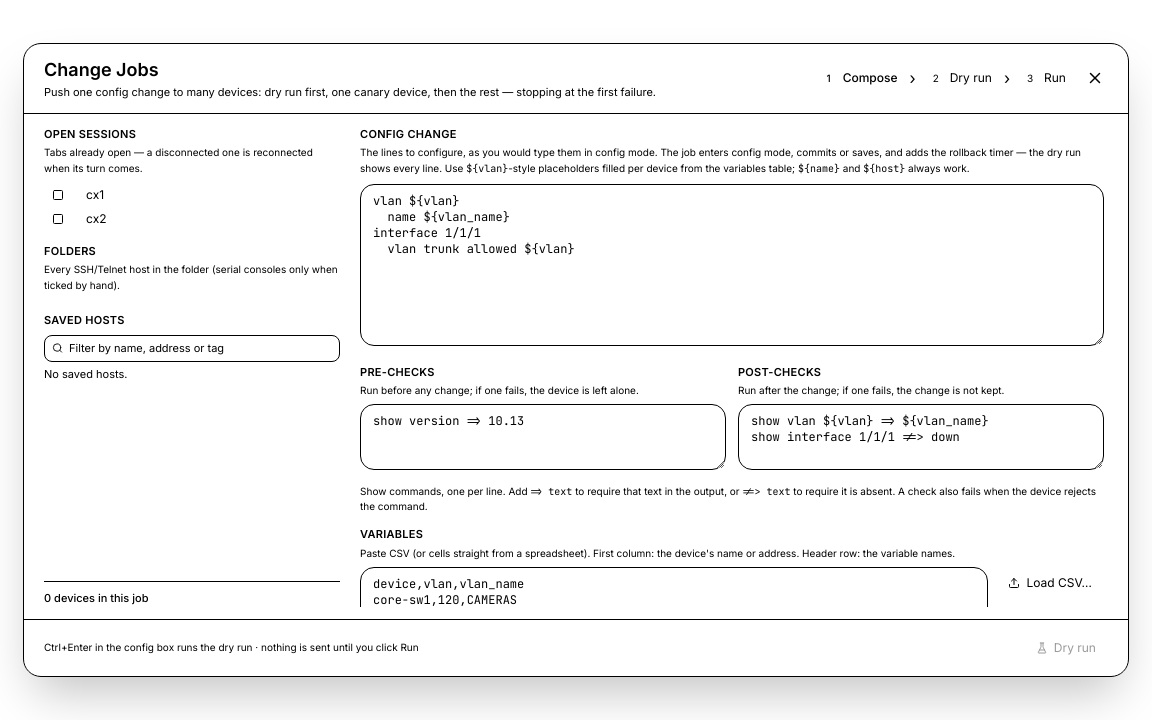
Test: ChangeJobs › the canary pause › runs only the canary, then the rest after Continue
Step 1. Click the button "cx1" → click(58, 195), box [44,183,340,207]
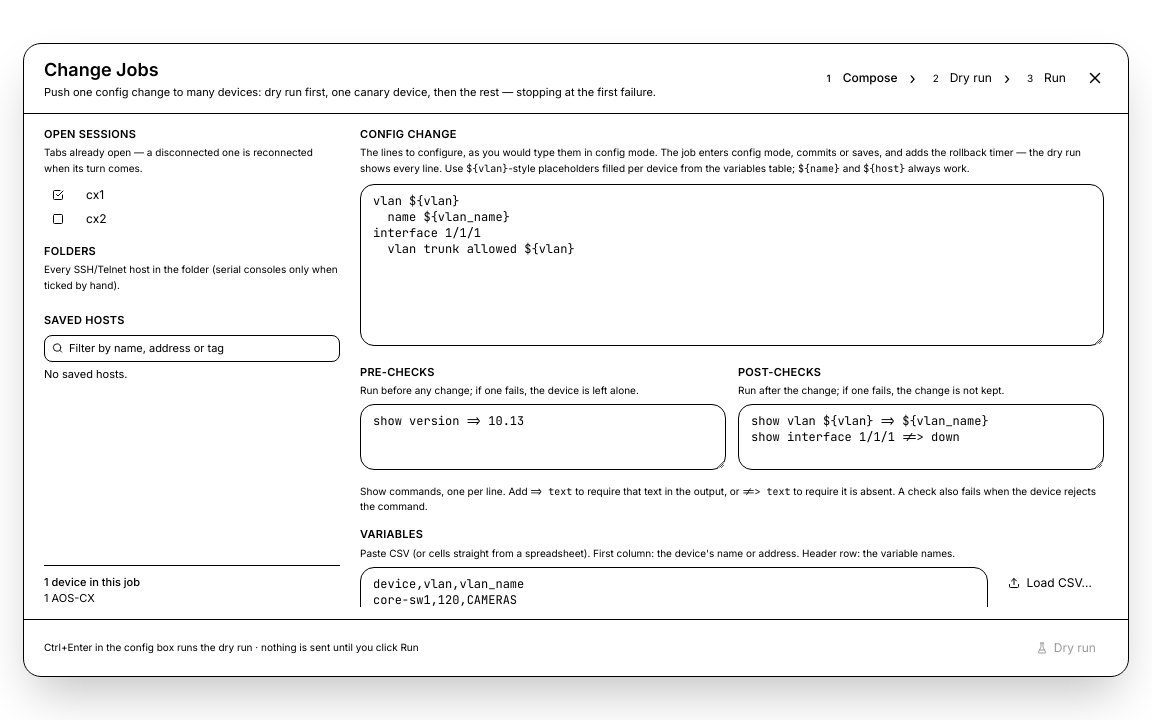
Step 2. Click the button "cx2" → click(58, 219), box [44,207,340,231]
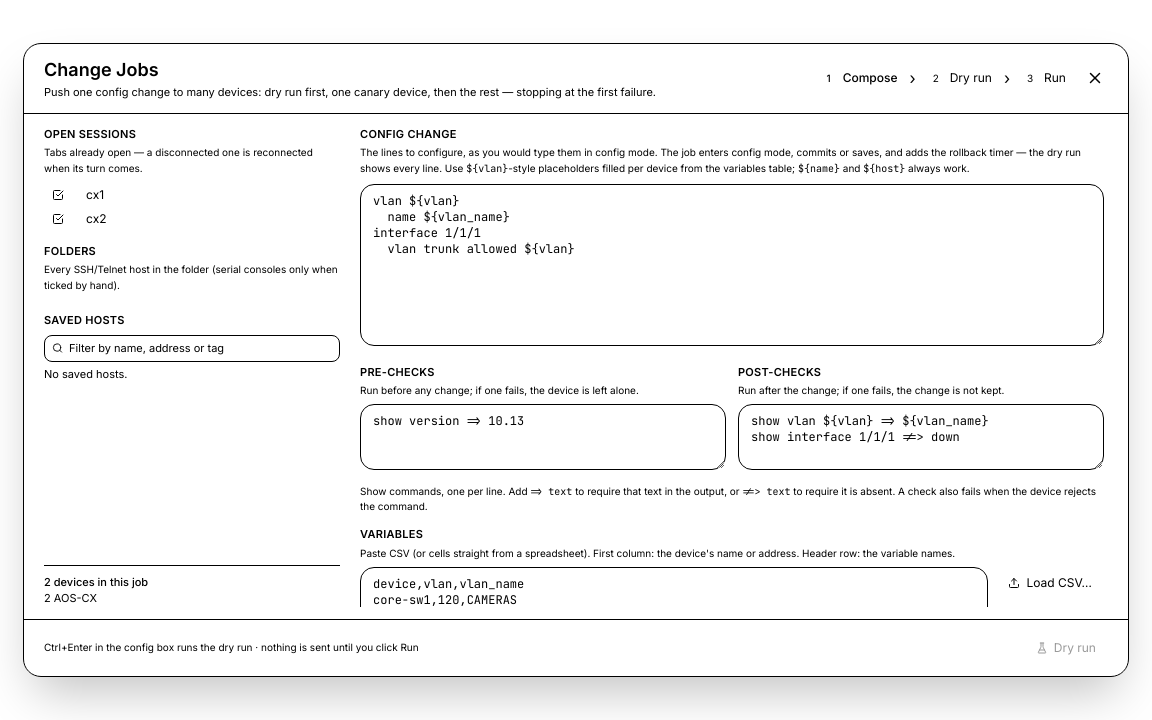
Step 3. Replace the text in the text box with placeholder "vlan ${vlan}" with "vlan 40" → (732, 265), box [360,184,1104,346]
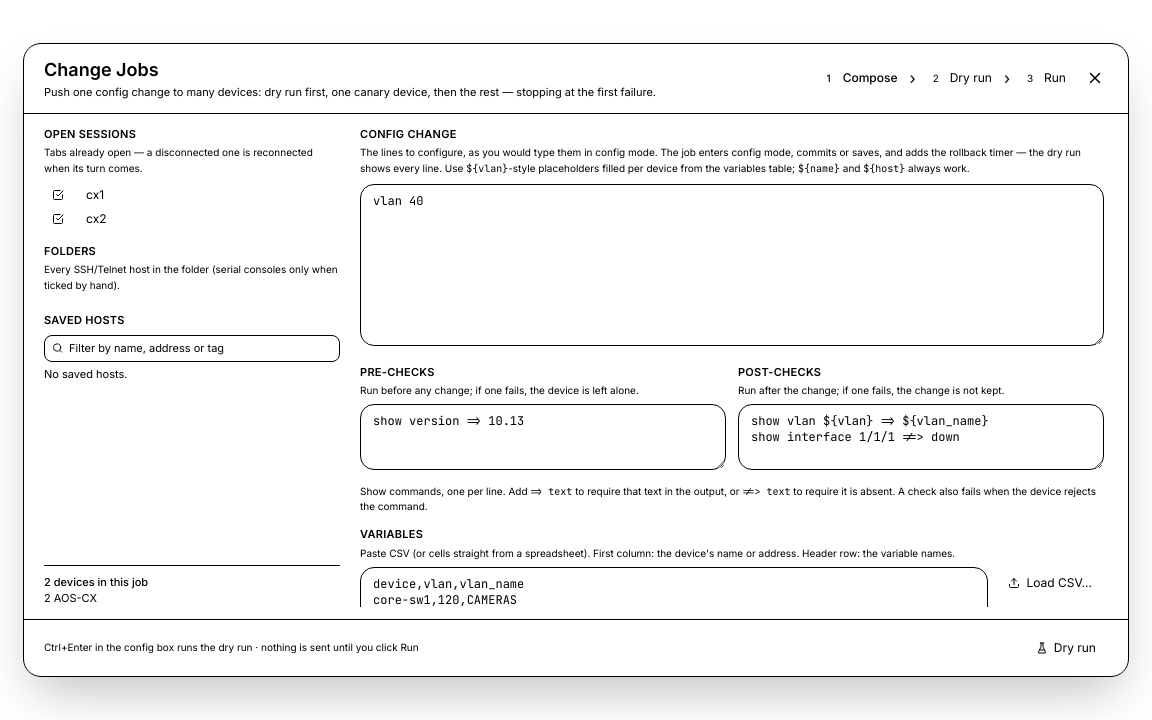
Step 4. Click the button "Dry run" → click(1066, 648), box [1024,632,1108,664]
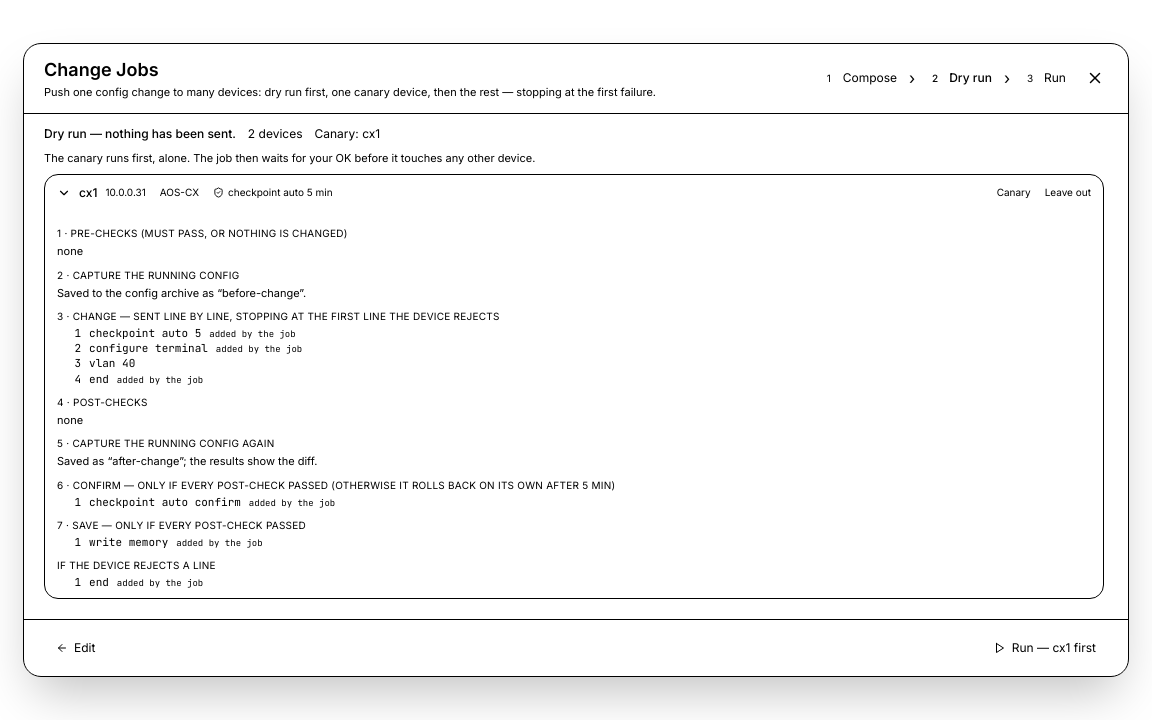
Step 5. Click the button "Run — cx1 first" → click(1045, 648), box [982,632,1108,664]
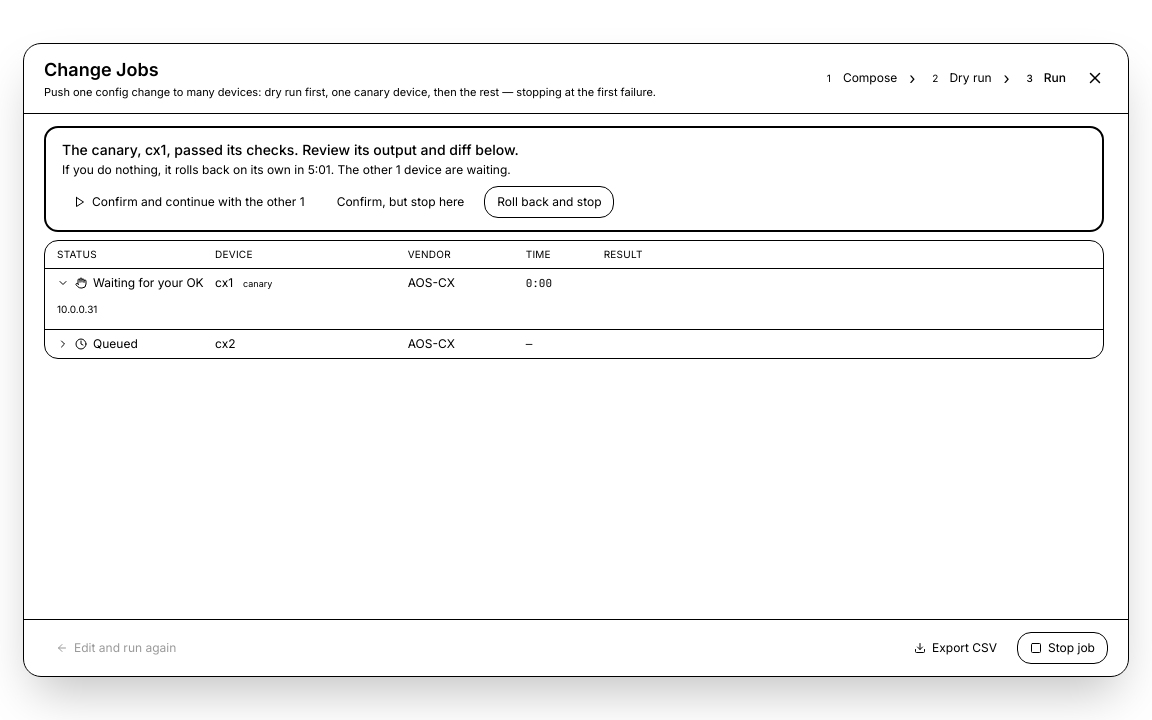
Check: the text "The canary, cx1, passed its checks" is shown, box [62,141,519,158]
Check: the text "rolls back on its own in" is shown, box [62,162,334,177]
Step 6. Click the button "Confirm and continue with the other 1" → click(189, 202), box [62,186,317,218]
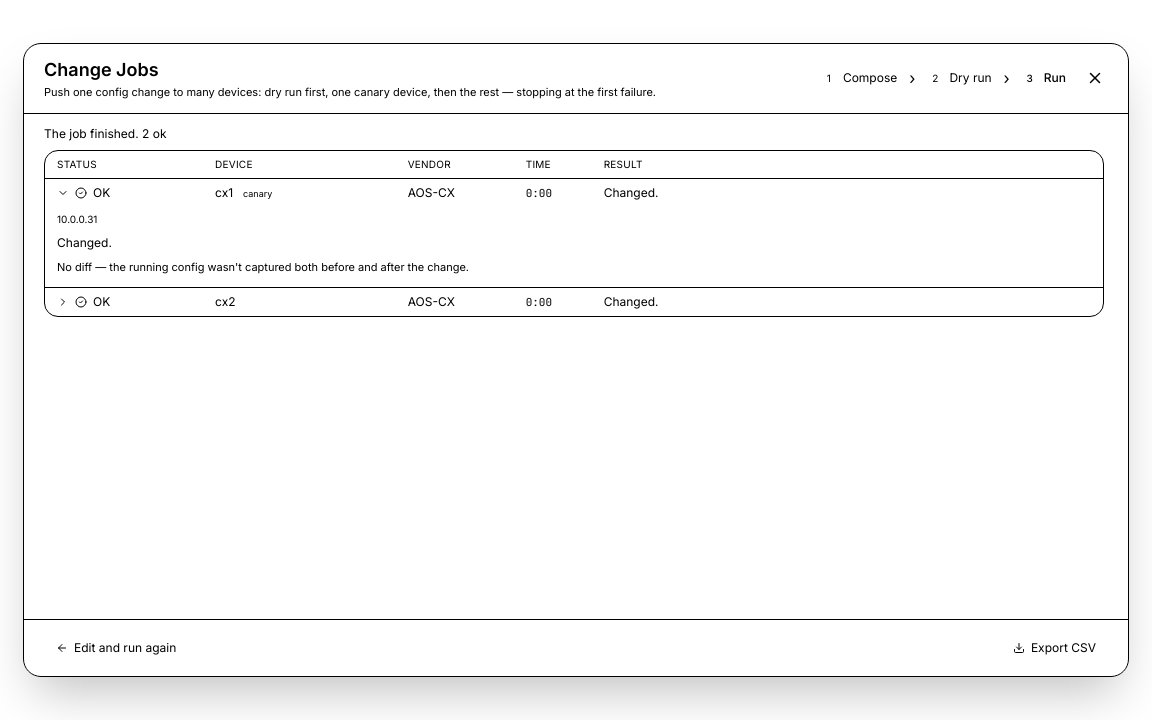
Check: the text "The job finished. 2 ok" is shown, box [44,126,166,141]
